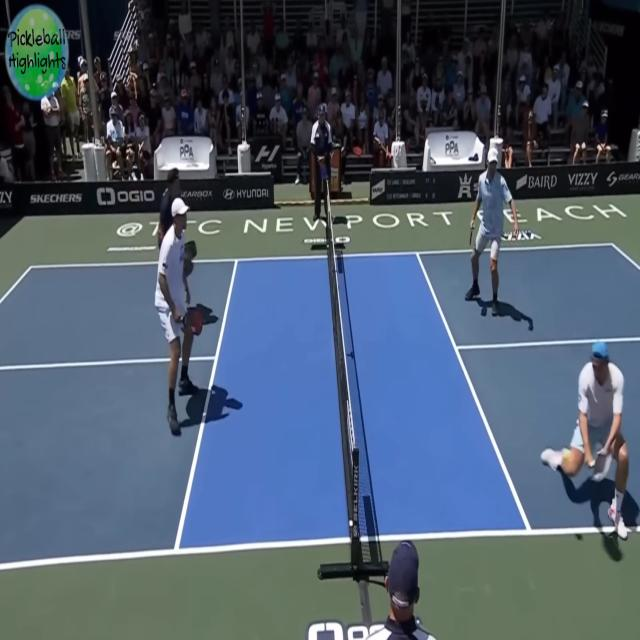ball: (560, 444, 572, 464)
